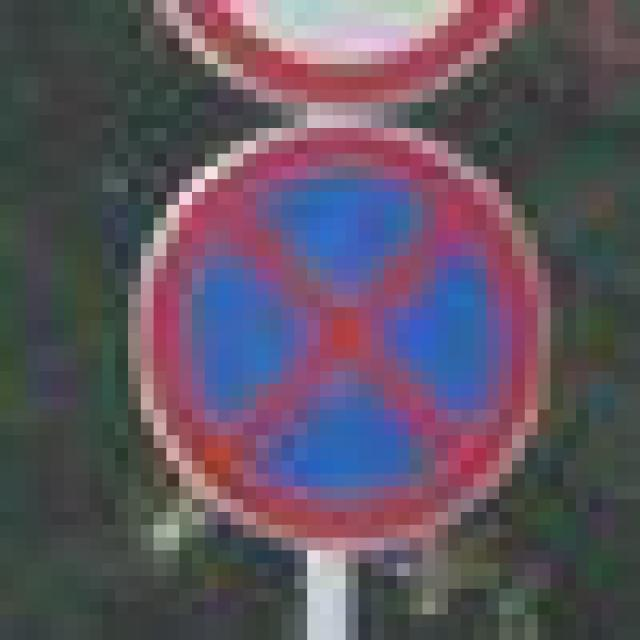no stopping or standing: (137, 127, 537, 545)
